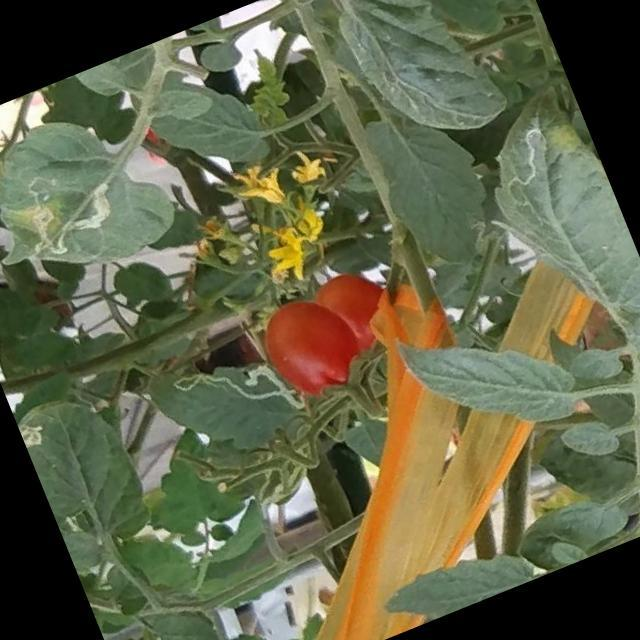Tomato target spot leaf: (455, 70, 640, 350), (0, 81, 193, 308), (128, 304, 349, 496)
